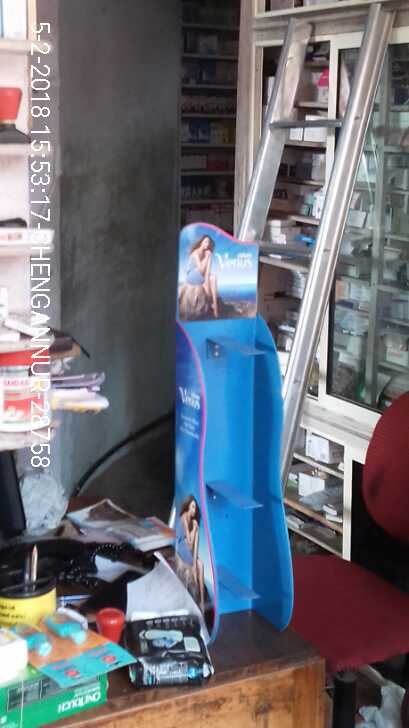reject: (182, 327, 294, 475)
